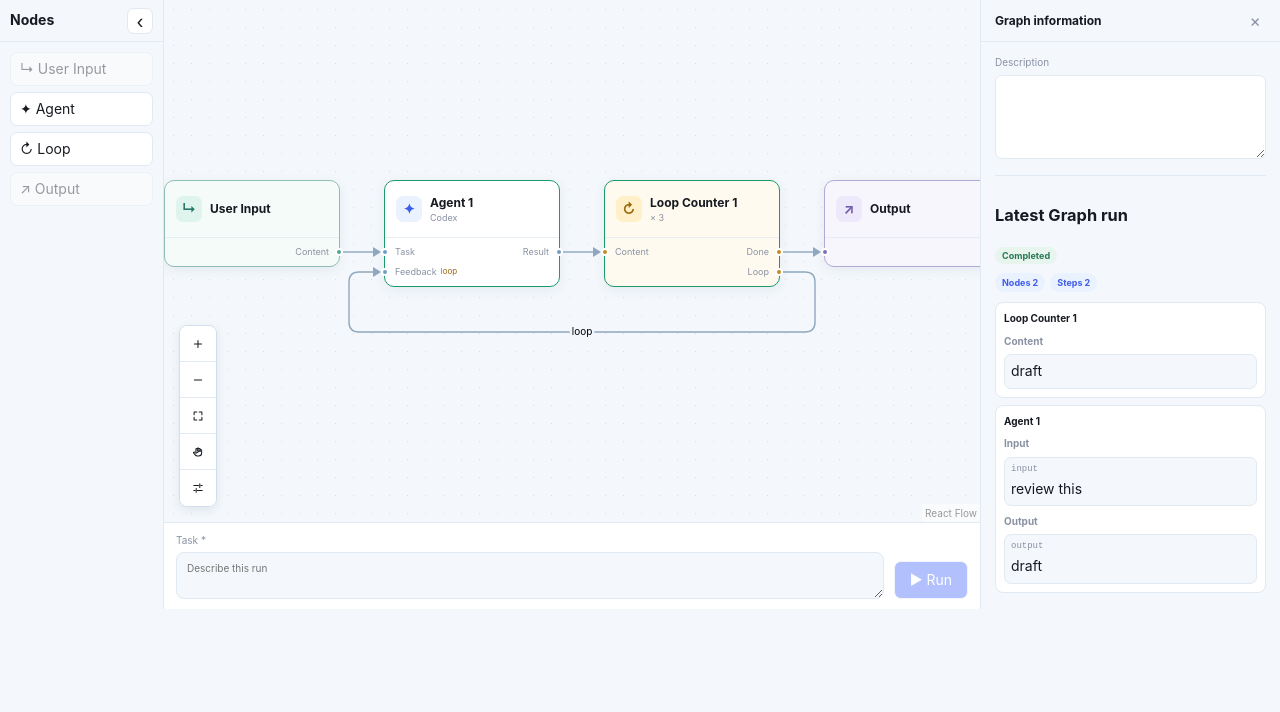
Scenario: zero-code Graph canvas › shows graph information by default and returns to it after closing a node
Expected: the heading "Graph information" is shown, [995,12,1102,29]
Click the element with test id "rf__node-agent-1": (472, 234) [384,180,560,287]
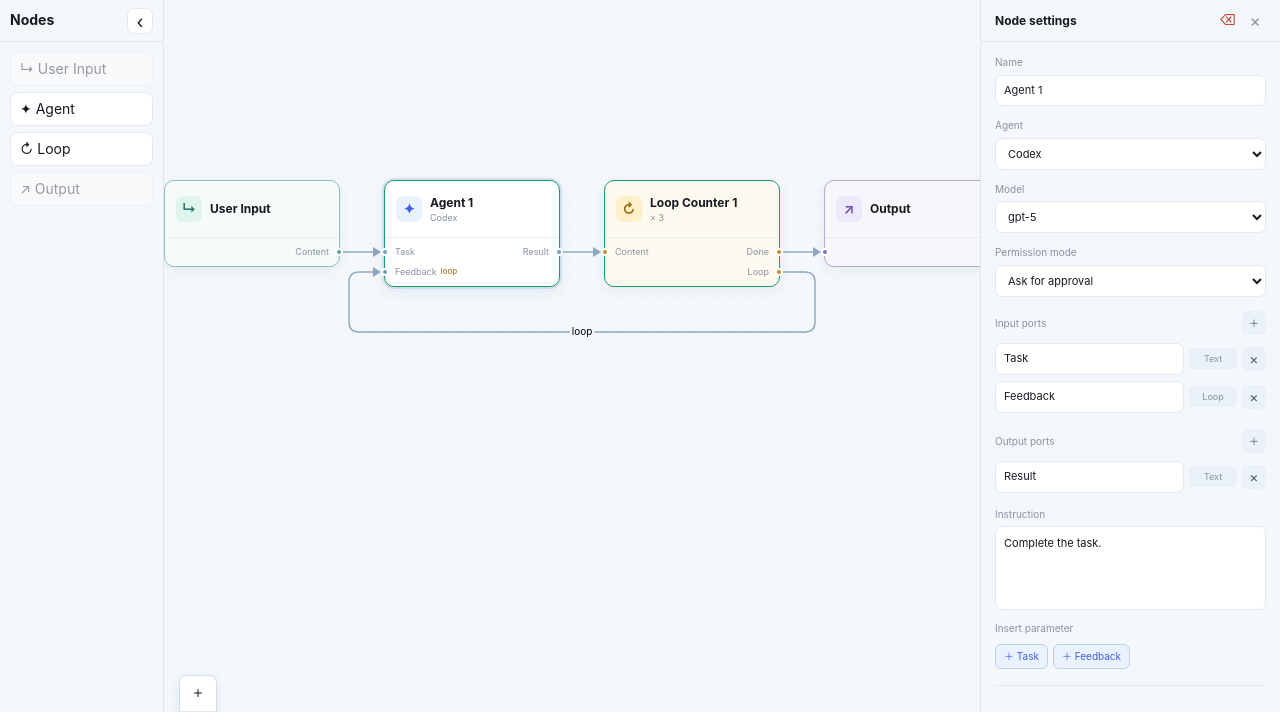
Result: the heading "Node settings" is shown at [995,12,1077,29]
Click the button named "Close node inspector": (1255, 20) [1242,8,1268,34]
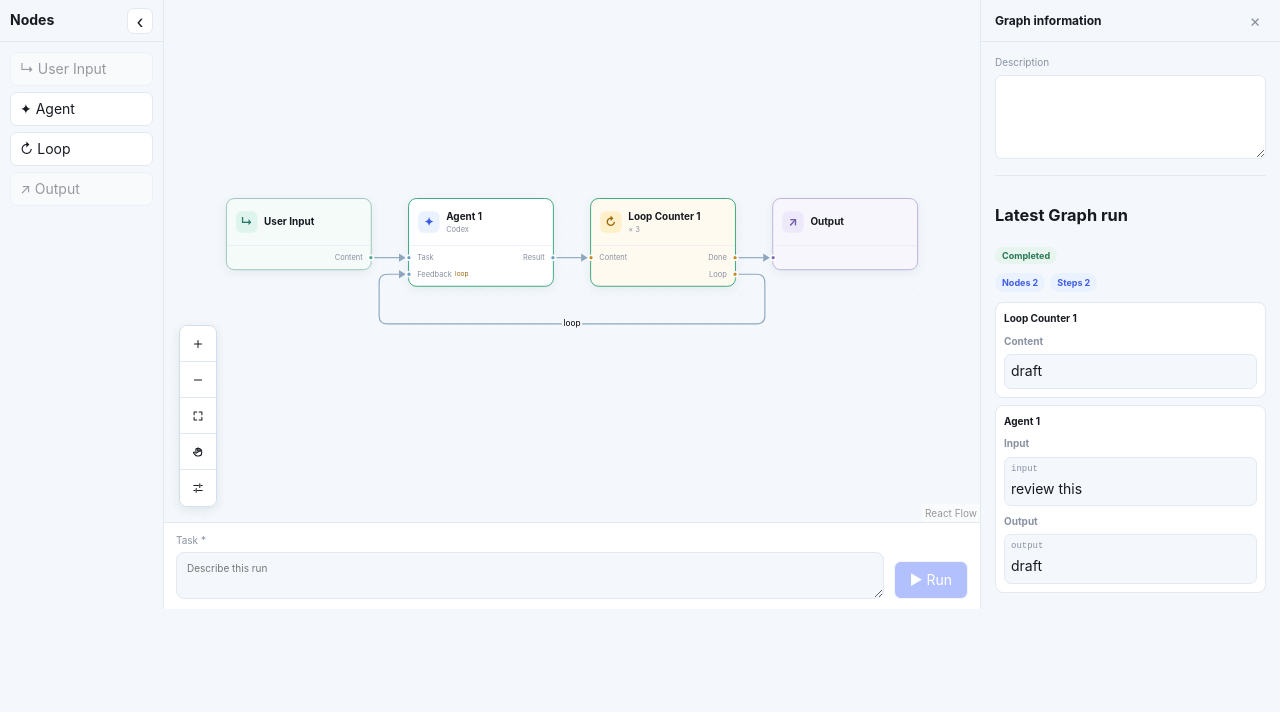
Result: the heading "Graph information" is shown at [995,12,1102,29]
